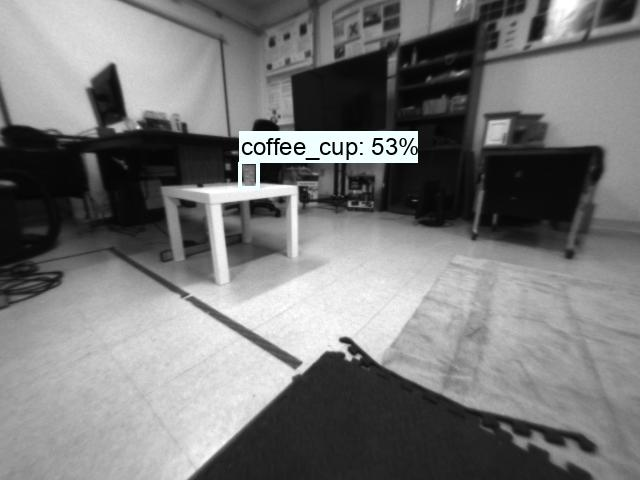coffee_cup: (238, 163, 259, 186)
